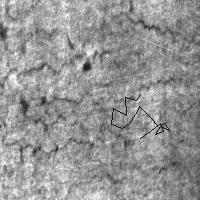crazing: (1, 80, 134, 156), (1, 26, 132, 88), (1, 137, 179, 182), (82, 9, 200, 60), (111, 94, 170, 138)
